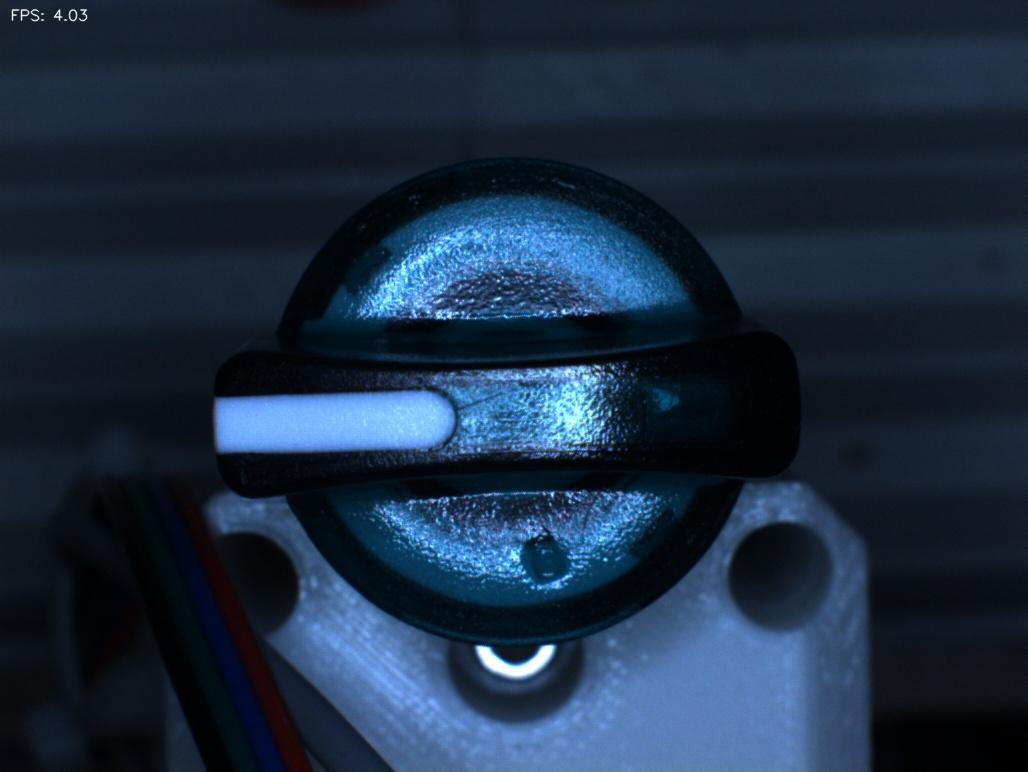Choc: (497, 507, 585, 604)
